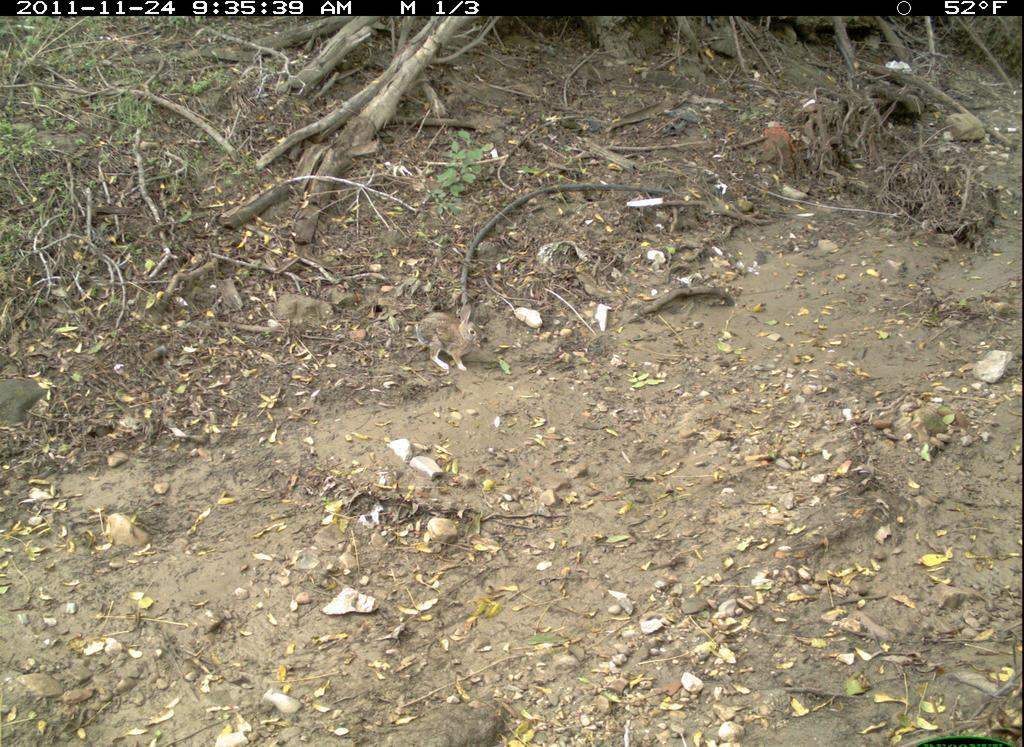rabbit: (388, 296, 504, 382)
